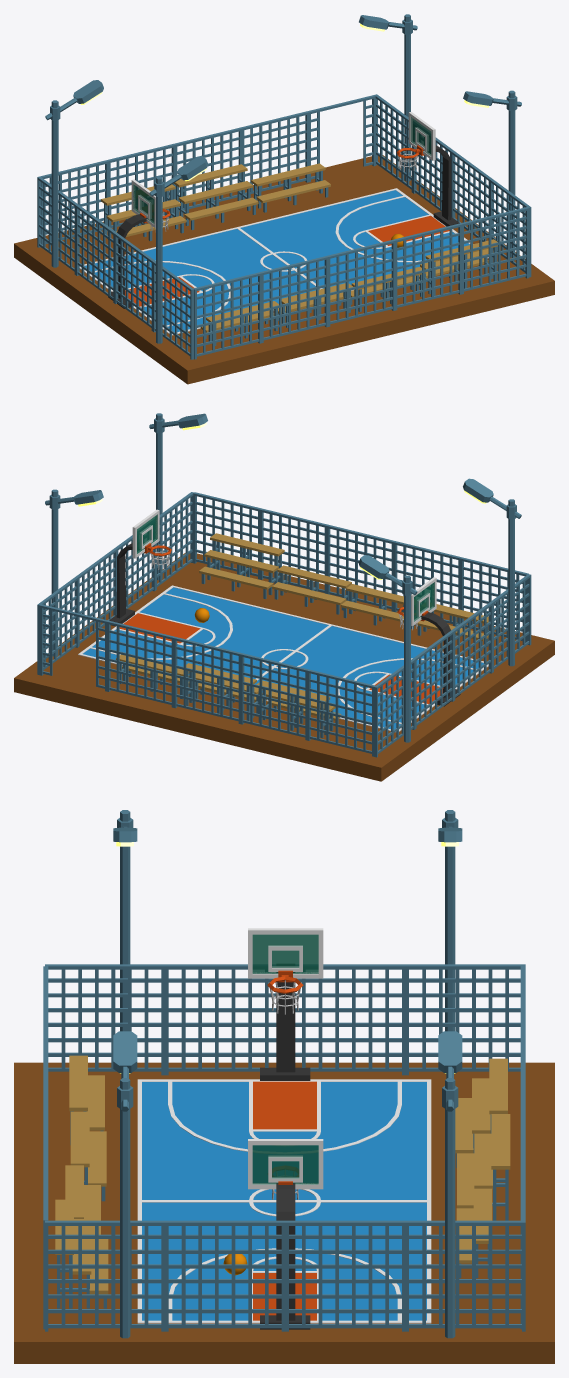
Rendered from basketball.glb.
3 renders of one model, top to bottom at view 1: azimuth 30°, elevation 25°; view 2: azimuth 150°, elevation 25°; view 3: azimuth 270°, elevation 25°, orthographic. The views are drawn at different scales.
Parts seen in each view (by area): view 1: Box14890, Plane1292, Box15534, Box15533, Box15535, Box14954, Box15536, Rectangle004, Box15541, Box14969, Box15548, Box15547 (+24 smaller); view 2: Box14890, Plane1292, Box15540, Box15539, Box15541, Box15538, Rectangle004, Box15553, Box15535, Box15534, Box15536, Box15547 (+24 smaller); view 3: Box14890, Plane1292, Rectangle004, Box15543, Box15544, Box15545, Box15542, Box15546, Box15547, Box15548, Box15549, Object283_glass_0 (+14 smaller).
Boxes of the visible parts, x1,y1,x2,y2 form: Box14890: (14,155,554,384); Plane1292: (84,190,469,331); Box15534: (327,239,395,326); Box15533: (260,256,328,342); Box15535: (394,223,461,310); Box14954: (193,272,261,359); Box15536: (461,207,528,294); Rectangle004: (79,188,488,335); Box15541: (241,111,308,195); Box14969: (173,164,258,230); Box15548: (75,204,116,302); Box15547: (114,233,154,331); Box14890: (14,553,554,781); Plane1292: (83,587,483,729); Box15540: (173,637,241,723); Box15539: (240,653,308,740); Box15541: (107,620,174,707); Box15538: (307,669,375,756); Rectangle004: (78,585,488,732); Box15553: (199,533,284,599); Box15535: (260,508,327,593); Box15534: (326,524,394,611); Box15536: (193,492,261,579); Box15547: (451,602,492,700); Box14890: (14,1062,554,1363); Plane1292: (142,1082,426,1320); Rectangle004: (137,1079,431,1323); Box15543: (165,1220,285,1331); Box15544: (285,1220,405,1331); Box15545: (405,1220,525,1331); Box15542: (45,1220,164,1331); Box15546: (45,964,164,1075); Box15547: (165,964,276,1075); Box15548: (295,964,405,1075); Box15549: (405,964,525,1075); Object283_glass_0: (252,934,318,1184).
Size of the model in its own units: 11.11 by 5.38 by 9.
